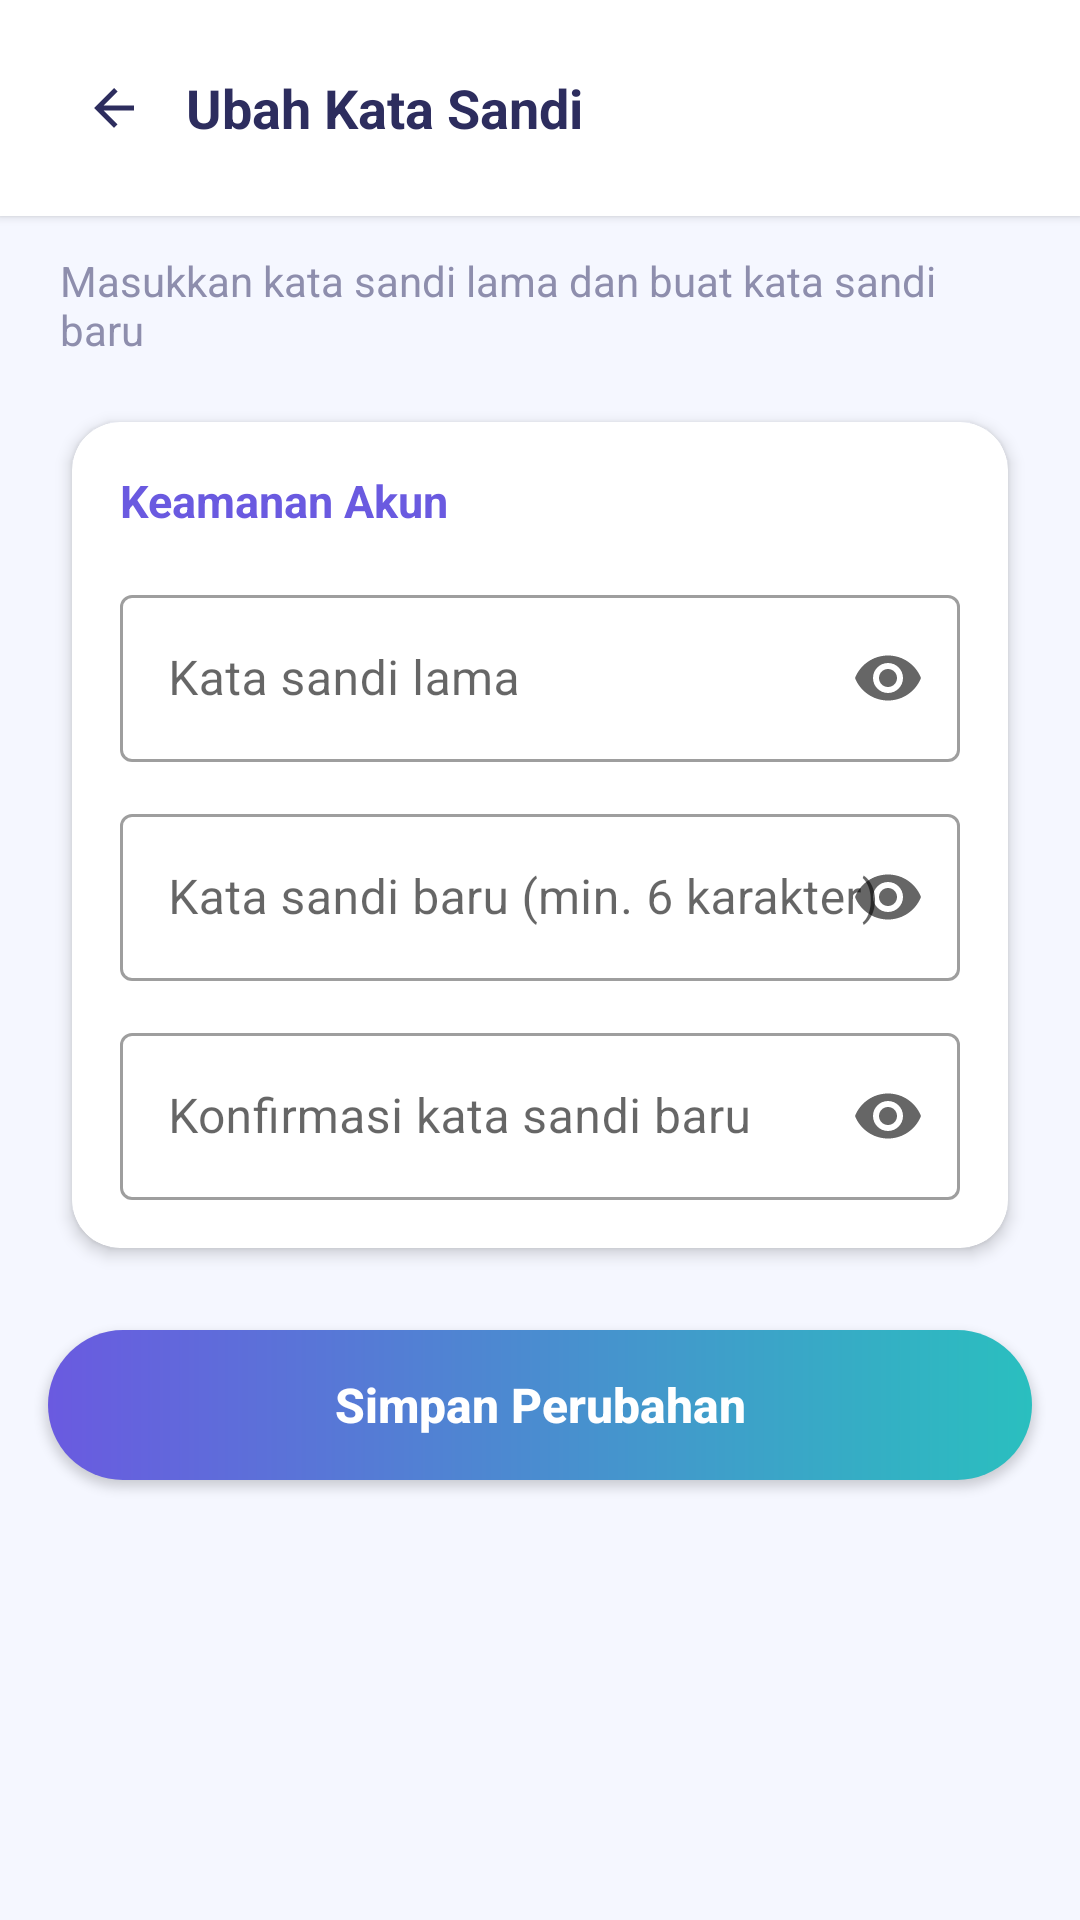

Locate icon controls on the screen. Image size 1080px×1920px, boxes as Rect(x1, y1, x2, y2).
Kembali: Rect(94, 88, 134, 128)
